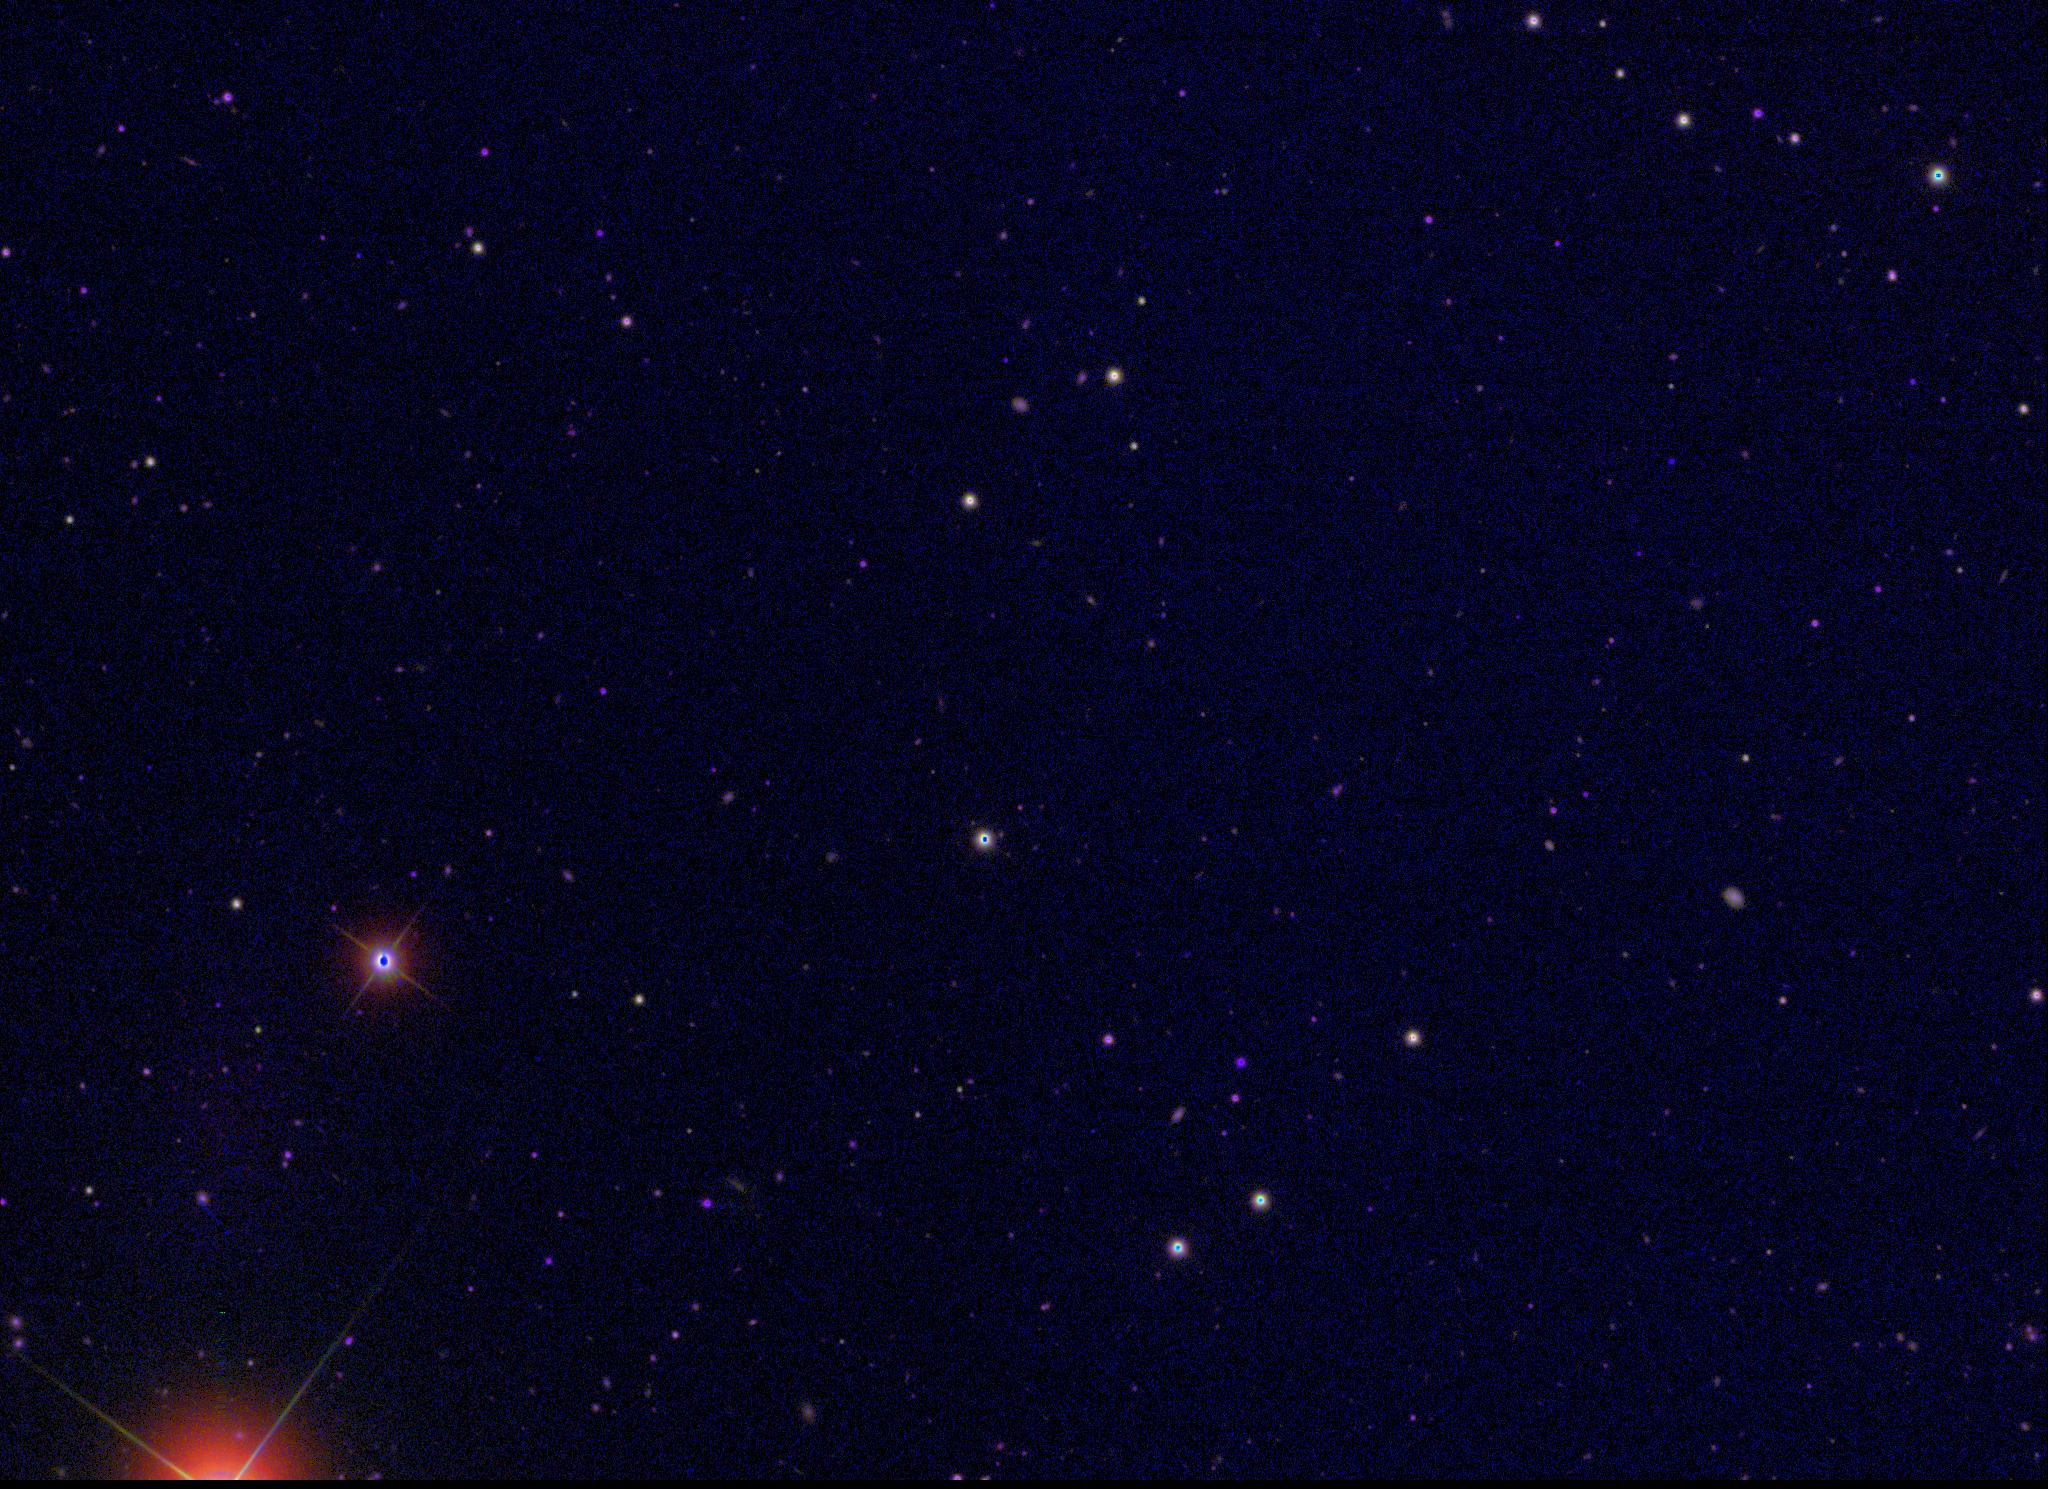L: (1663, 455, 1678, 469)
